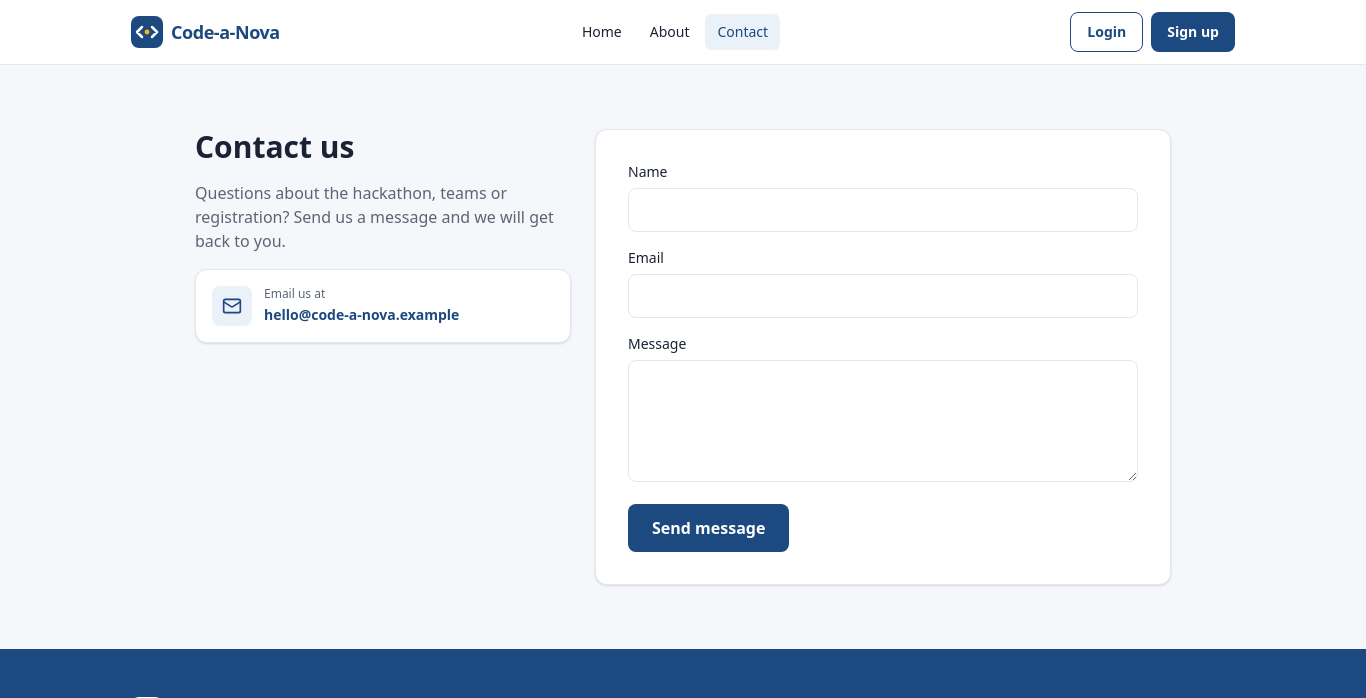
Test: public pages and navbar › Contact form validates, then submits
Click the button "Send message" at [709, 528], box [628,504,789,552]
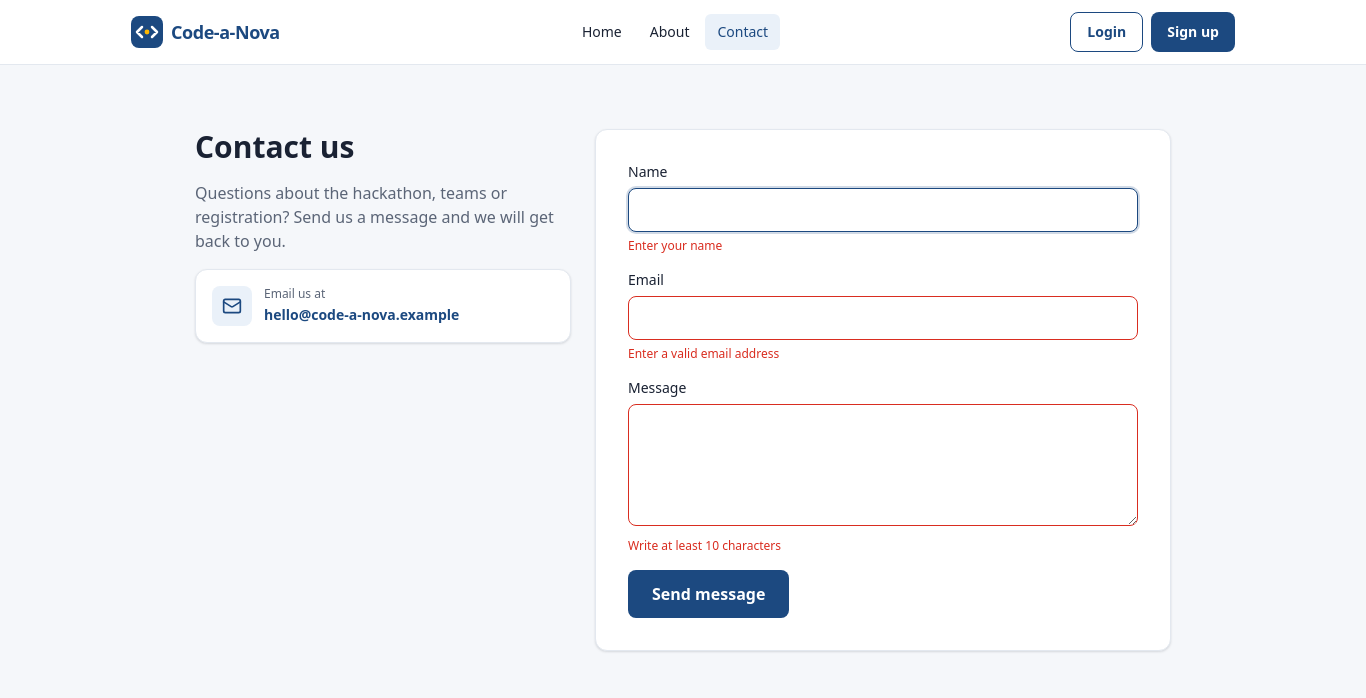
Expected: the text "Write at least 10 characters" is shown, [628,537,781,554]
Type "Dev Patel" into the field labelled "Name" at [883, 210], box [628,188,1138,232]
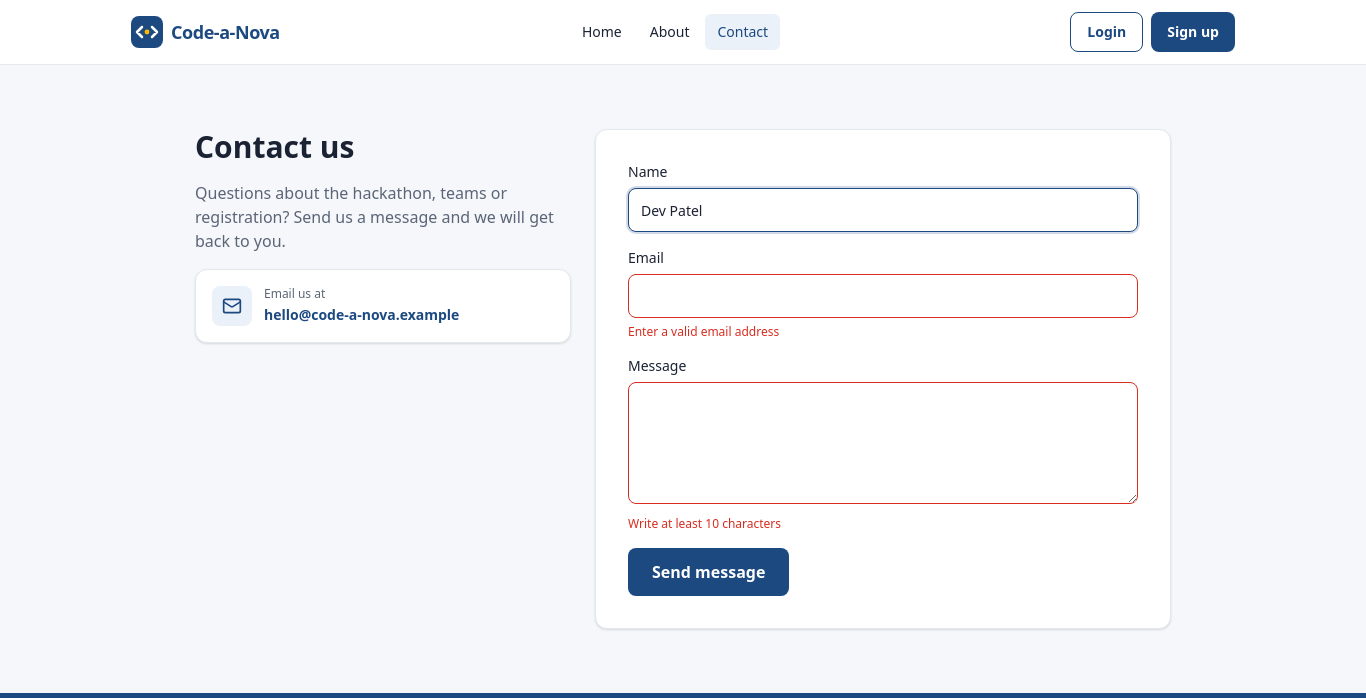
Type "dev@example.com" into the field labelled "Email" at [883, 296], box [628,274,1138,318]
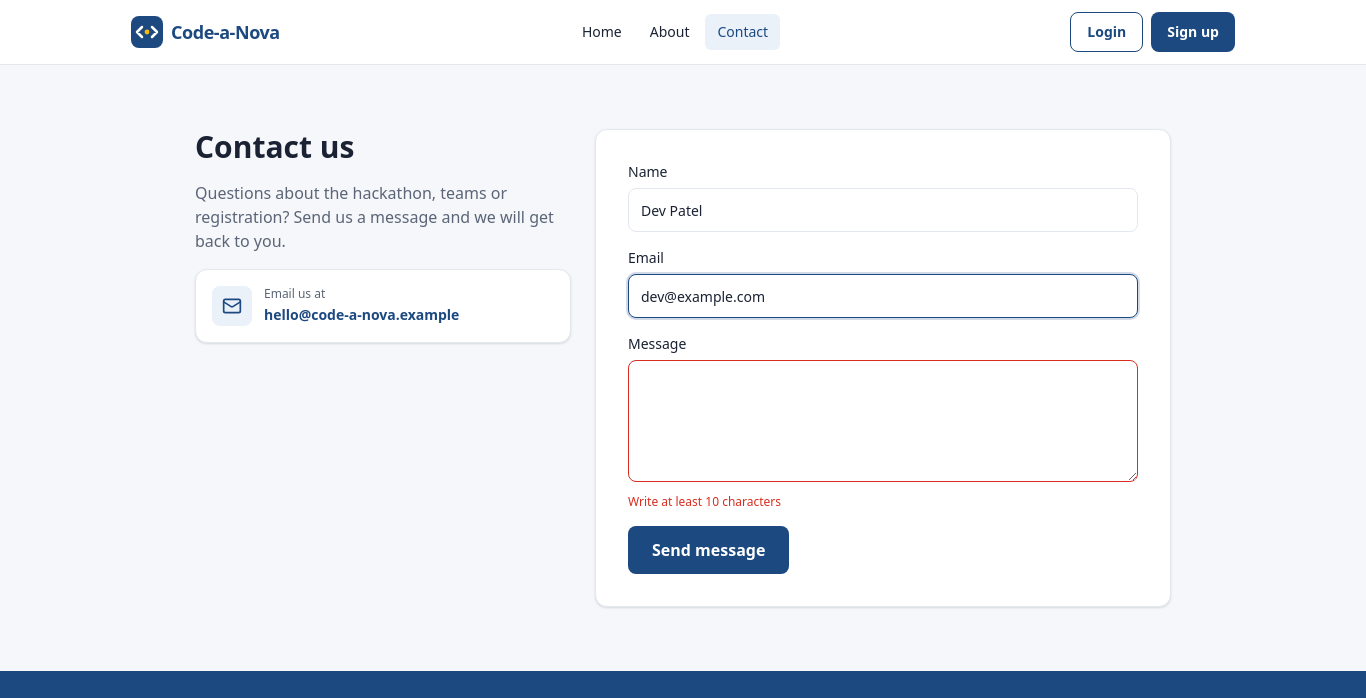
Type "Is there a limit on teams per college?" into the text box labelled "Message" at [883, 421], box [628,360,1138,482]
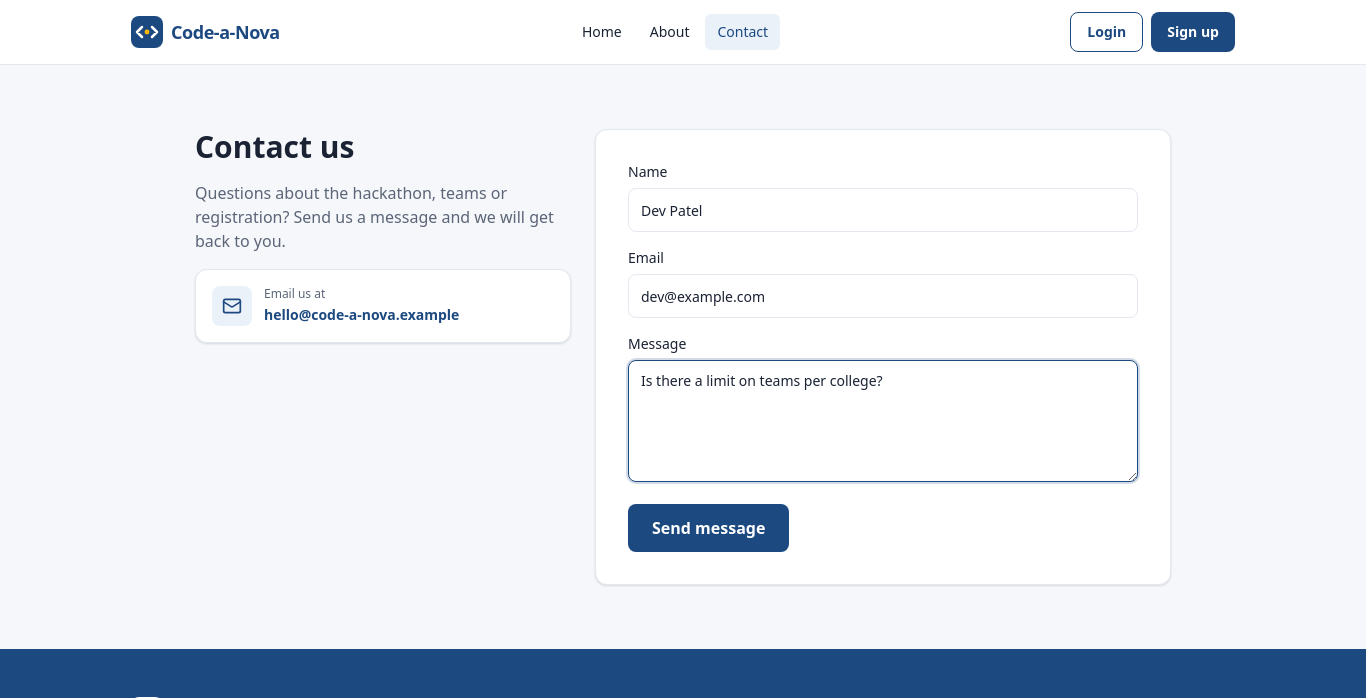
Click the button "Send message" at [709, 528], box [628,504,789,552]
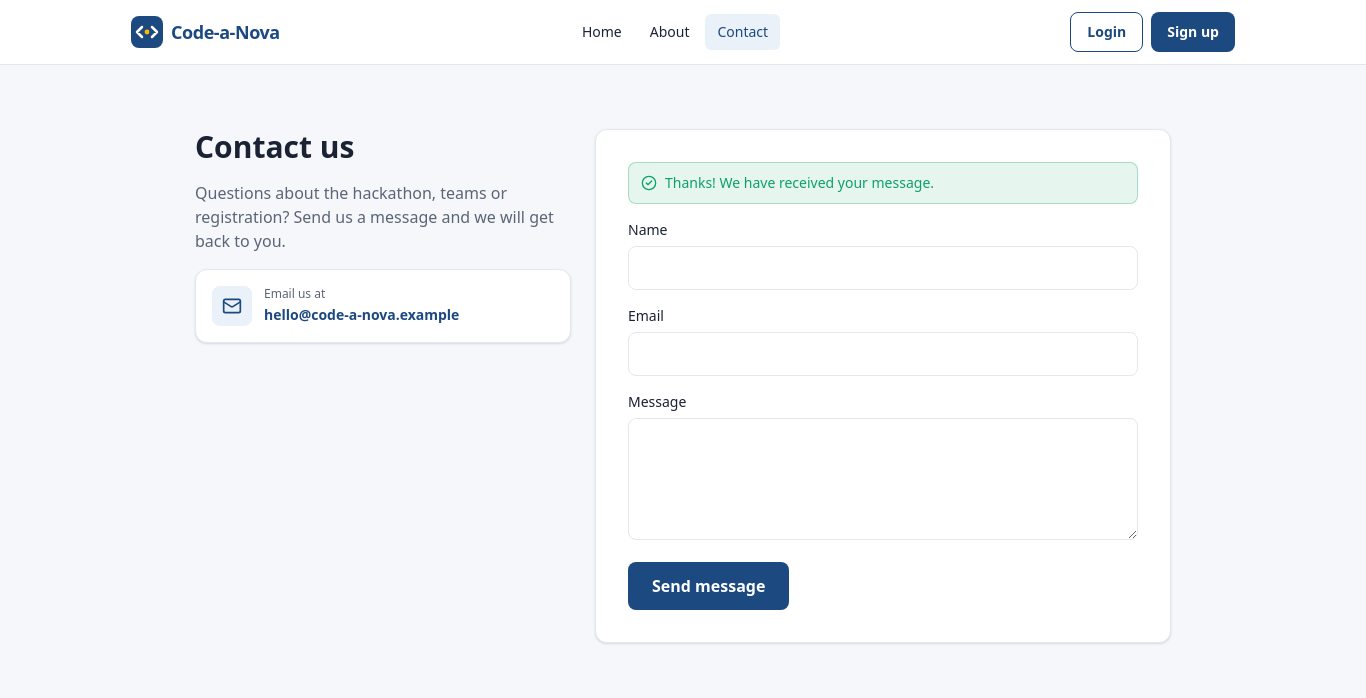
Expected: the text "Thanks! We have received your message." is shown, [665,173,934,193]
